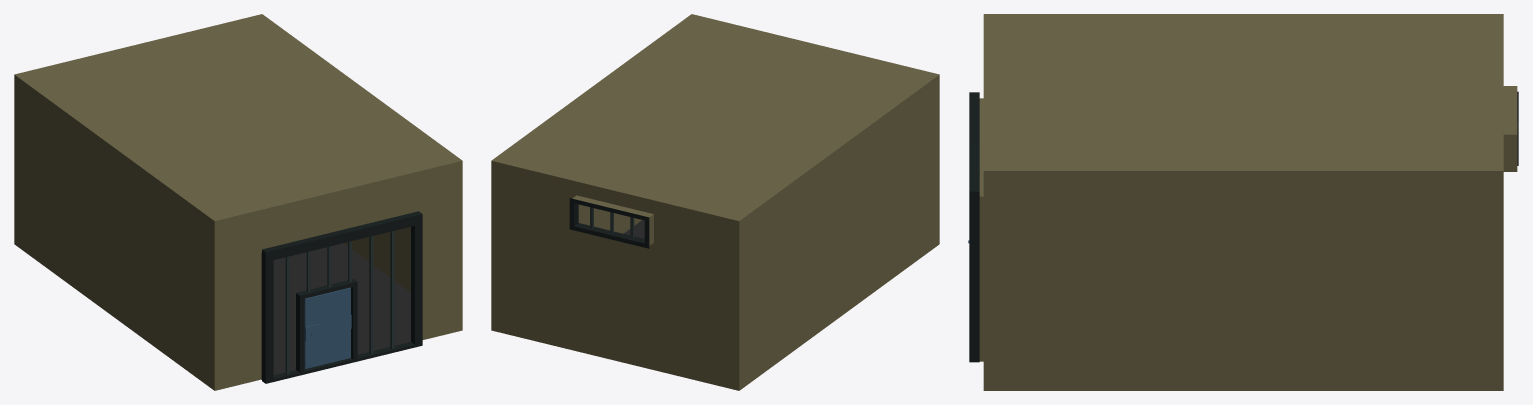
The model's file is cell_main.fbx.
3 views of the same model, side by side, from view 1: azimuth 30°, elevation 25°; view 2: azimuth 150°, elevation 25°; view 3: azimuth 270°, elevation 25° (orthographic). The views are drawn at different scales.
Parts seen in each view (by area): view 1: wall02, wall004, wall03, Wall, bars_front, Door, wall01, bar07, bar019, bar018; view 2: wall02, wall005, wall004, bars_back, wall01; view 3: wall01, wall02, bars_front, wall03, wall005.
Part boxes in pixels (x1,y1,x2,y2): wall02: [14, 14, 462, 220]; wall004: [14, 75, 214, 390]; wall03: [214, 161, 462, 390]; Wall: [273, 243, 410, 374]; bars_front: [262, 211, 422, 383]; Door: [304, 287, 351, 368]; wall01: [344, 227, 410, 292]; bar07: [285, 256, 289, 374]; bar019: [390, 231, 394, 348]; bar018: [369, 236, 373, 353]; wall02: [491, 14, 939, 220]; wall005: [491, 161, 739, 390]; wall004: [739, 75, 939, 390]; bars_back: [569, 198, 649, 248]; wall01: [578, 204, 641, 233]; wall01: [983, 171, 1503, 390]; wall02: [983, 14, 1503, 170]; bars_front: [969, 92, 979, 362]; wall03: [979, 98, 983, 361]; wall005: [1503, 86, 1517, 171].
Bounding box in the file's own units: 100 × 65.42 × 148.
